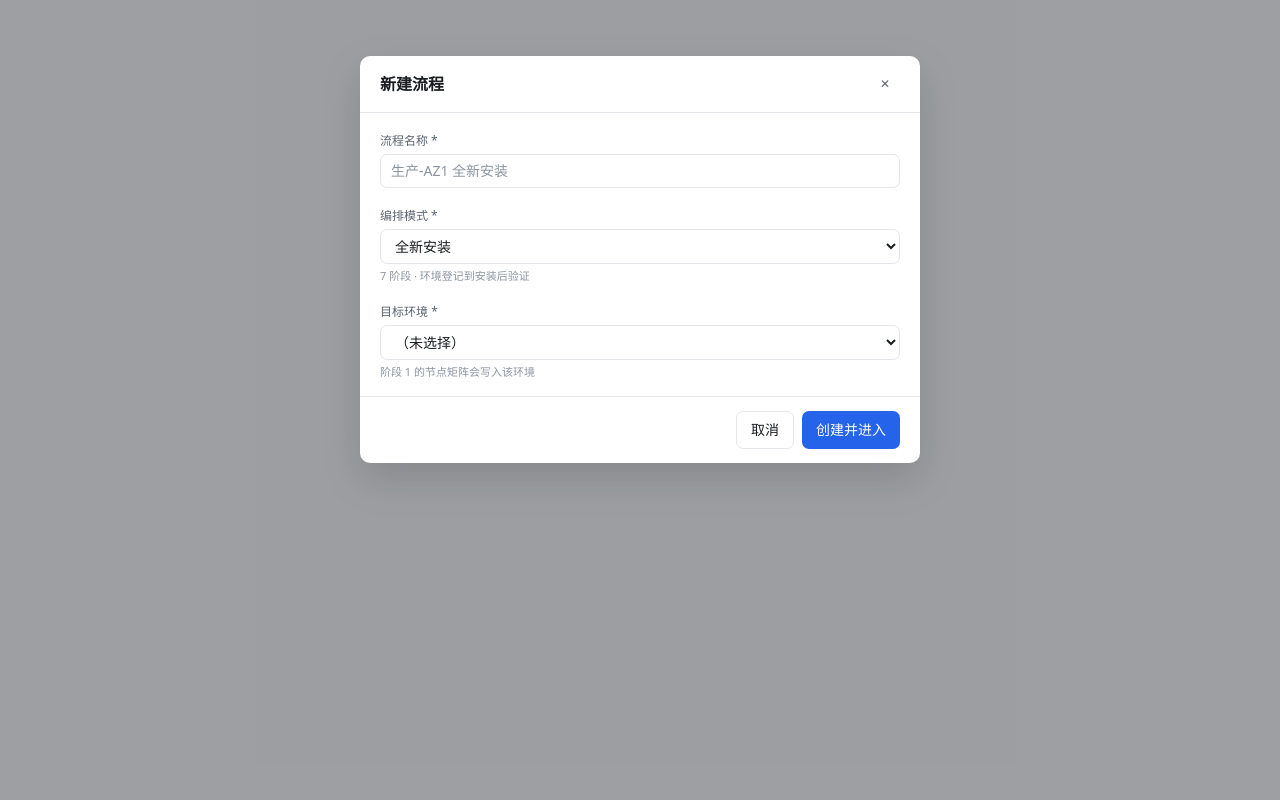
Test: NewFlowDialog › 名称为空即拦下：只 toast 不发请求
This screenshot has width=1280, height=800.
Click the button "创建并进入": (851, 430) [802,411,900,449]
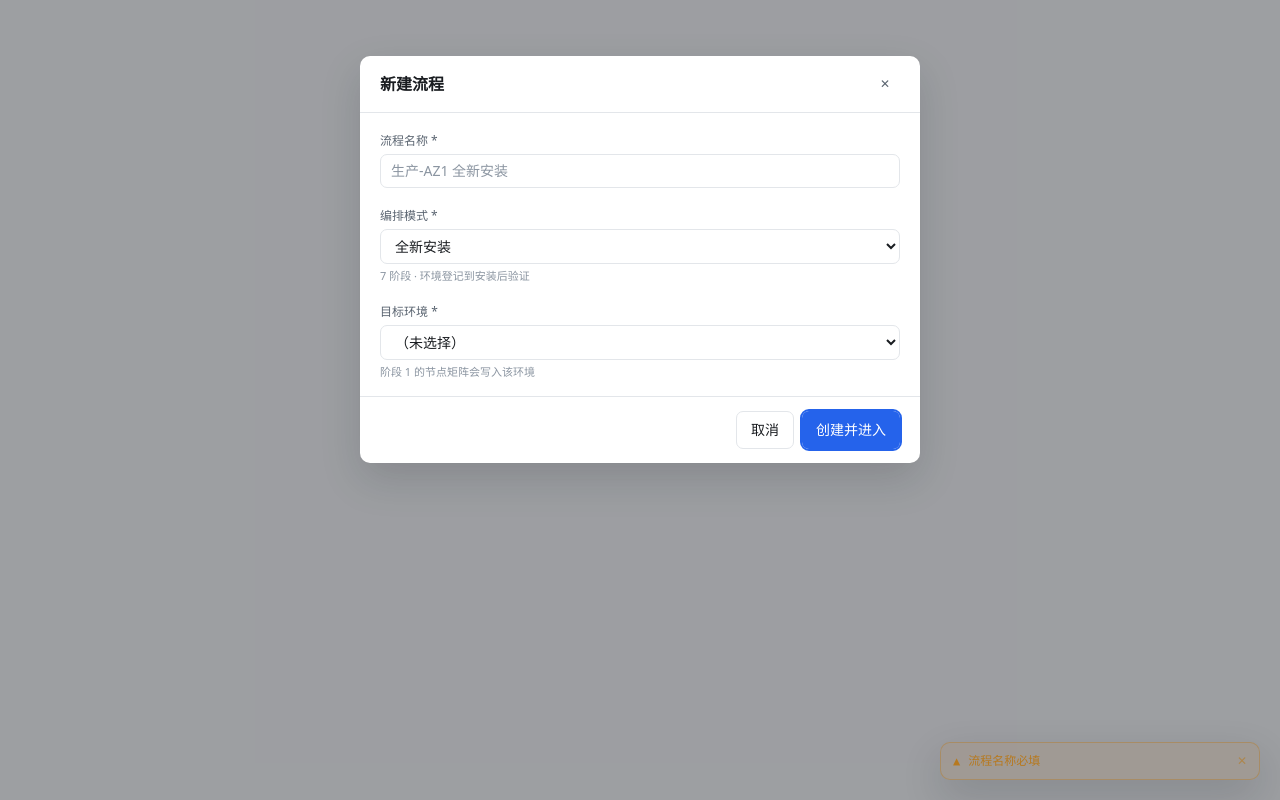
Now the text "流程名称必填" is shown, box [968,752,1040,769]
